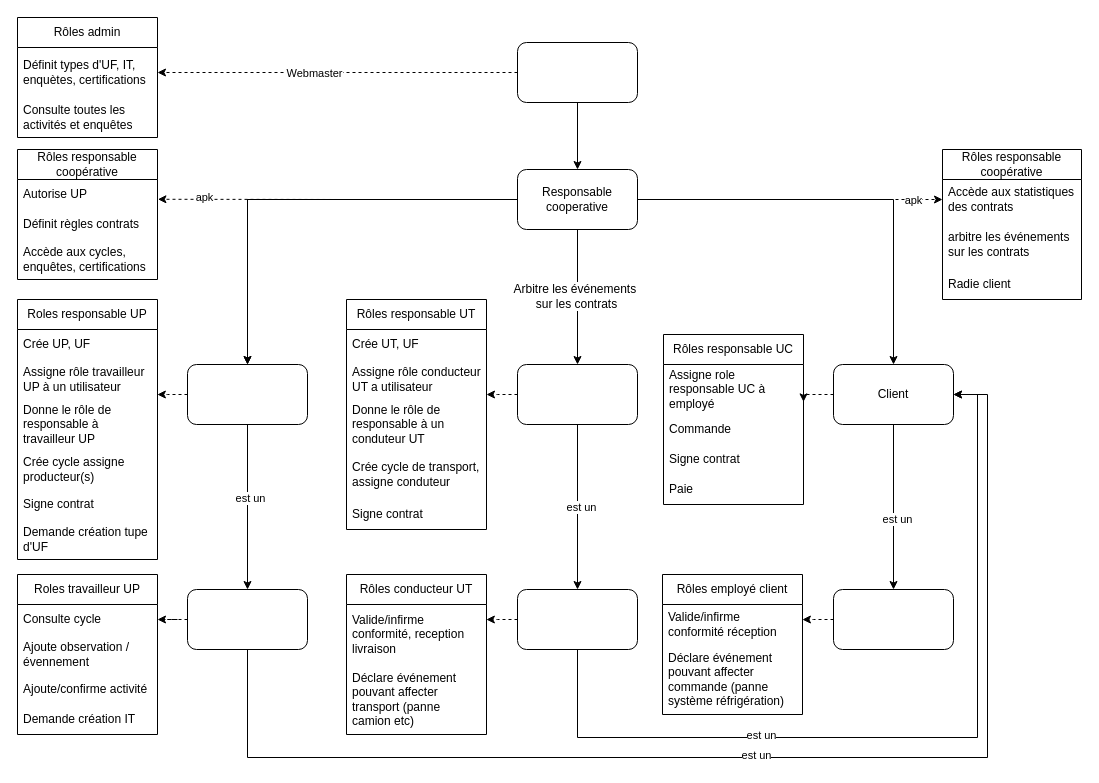
This 1099x783 diagram has some shape labels left out. The centre of each missing label's shape, as x and y in pixels:
"Admin" goes at [577,72].
"Conducteur" goes at [577,619].
"Employé client" goes at [893,619].
"Producteur / travailleur" goes at [247,619].
"Responsable UP" goes at [247,394].
"Responsable UT" goes at [577,394].
